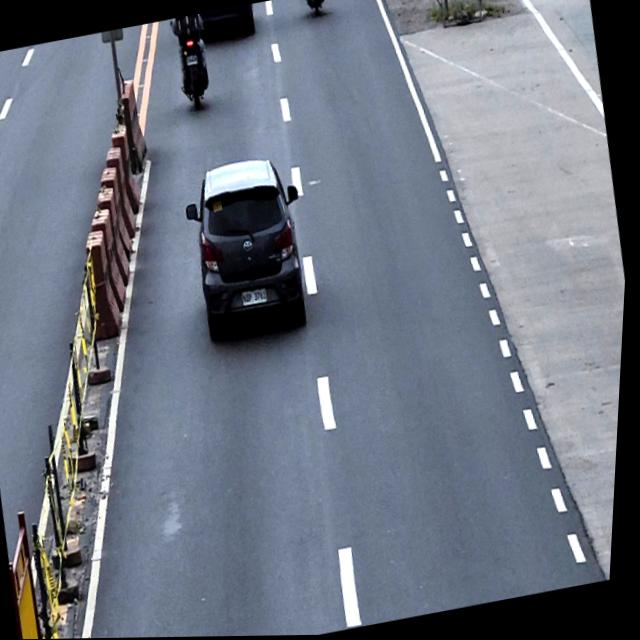Car: (174, 150, 325, 346)
License-Plate: (242, 286, 273, 308), (185, 54, 200, 68)
Motorcycle: (165, 14, 218, 114)
